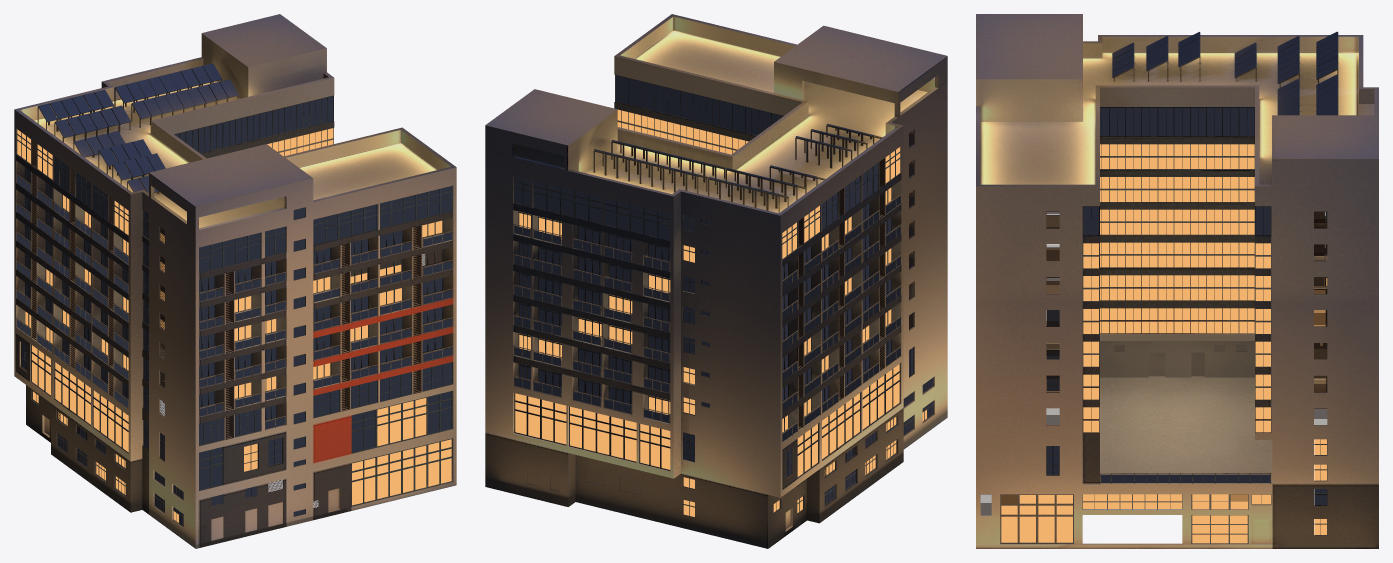
The model's file is SSL.FBX.
3 views of the same model, side by side, from view 1: azimuth 30°, elevation 25°; view 2: azimuth 150°, elevation 25°; view 3: azimuth 270°, elevation 25° (orthographic). The views are drawn at different scales.
Parts seen in each view (by area): view 1: SSL_10, Object007, Object006, Light_04, SSL_05, SSL_06, SSL_02, SSL_04, SSL_00; view 2: SSL_10, Object007, Light_04, Object006, SSL_05, SSL_04, SSL_06, SSL_02; view 3: SSL_10, Light_04, Object006, Object007, SSL_06, SSL_02, SSL_05, SSL_00.
Boxes of the visible parts, x1=… form: SSL_10: x1=14, y1=14, x2=456, y2=548; Object007: x1=21, y1=96, x2=451, y2=526; Object006: x1=16, y1=95, x2=452, y2=526; Light_04: x1=17, y1=128, x2=451, y2=522; SSL_05: x1=16, y1=175, x2=452, y2=428; SSL_06: x1=37, y1=63, x2=238, y2=193; SSL_02: x1=32, y1=140, x2=424, y2=507; SSL_04: x1=16, y1=173, x2=453, y2=430; SSL_00: x1=44, y1=416, x2=339, y2=540; SSL_10: x1=485, y1=14, x2=947, y2=548; Object007: x1=514, y1=75, x2=933, y2=504; Light_04: x1=515, y1=109, x2=926, y2=516; Object006: x1=514, y1=74, x2=933, y2=517; SSL_05: x1=514, y1=196, x2=900, y2=441; SSL_04: x1=513, y1=194, x2=901, y2=442; SSL_06: x1=593, y1=123, x2=882, y2=212; SSL_02: x1=798, y1=130, x2=913, y2=476; SSL_10: x1=976, y1=14, x2=1378, y2=548; Light_04: x1=1001, y1=144, x2=1327, y2=543; Object006: x1=1000, y1=107, x2=1327, y2=543; Object007: x1=1046, y1=107, x2=1327, y2=504; SSL_06: x1=1112, y1=31, x2=1338, y2=115; SSL_02: x1=980, y1=211, x2=1327, y2=515; SSL_05: x1=1101, y1=474, x2=1270, y2=482; SSL_00: x1=1251, y1=380, x2=1325, y2=543.
Size of the model in its own units: 32.7 by 36.7 by 39.21.
Materials: 8 (5 with a texture image).
